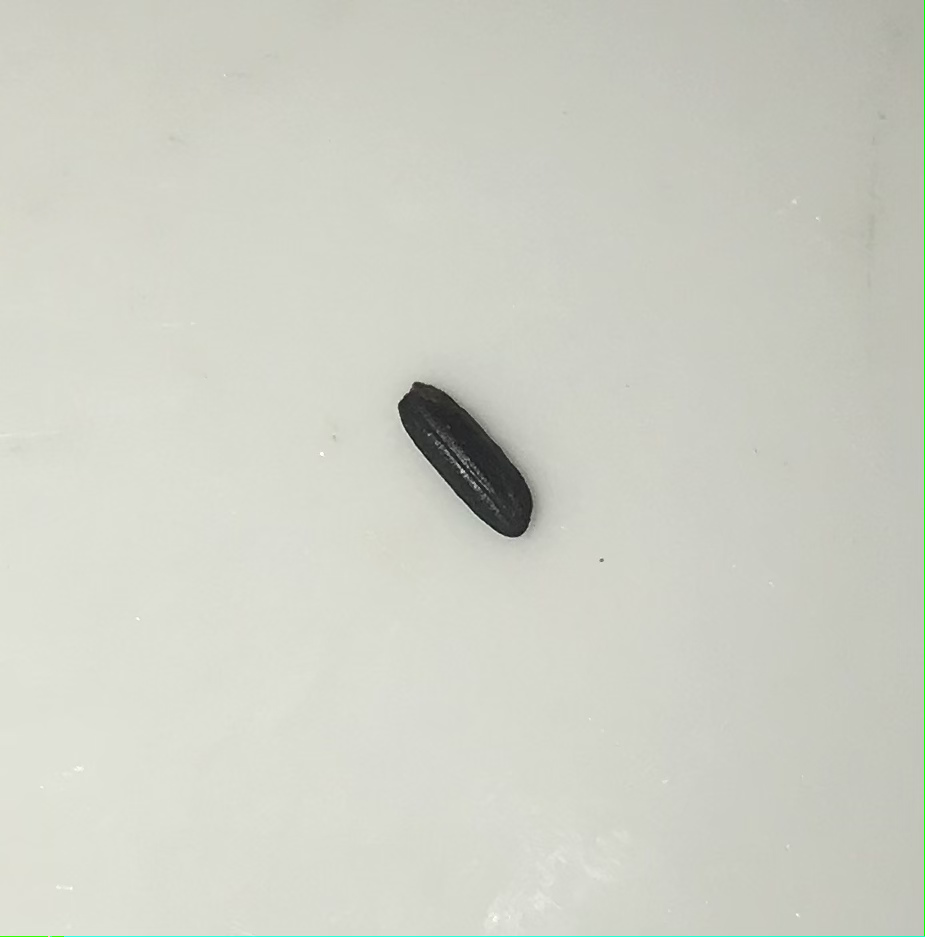Gao Nep Cam: (393, 374, 539, 551)
